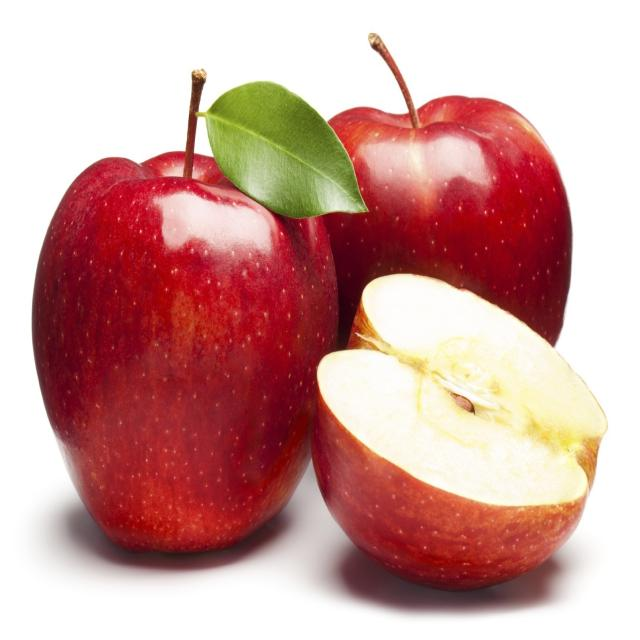organic: (31, 149, 340, 562), (313, 273, 610, 590)
